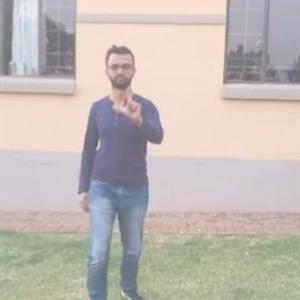land_hand: (110, 81, 144, 123)
